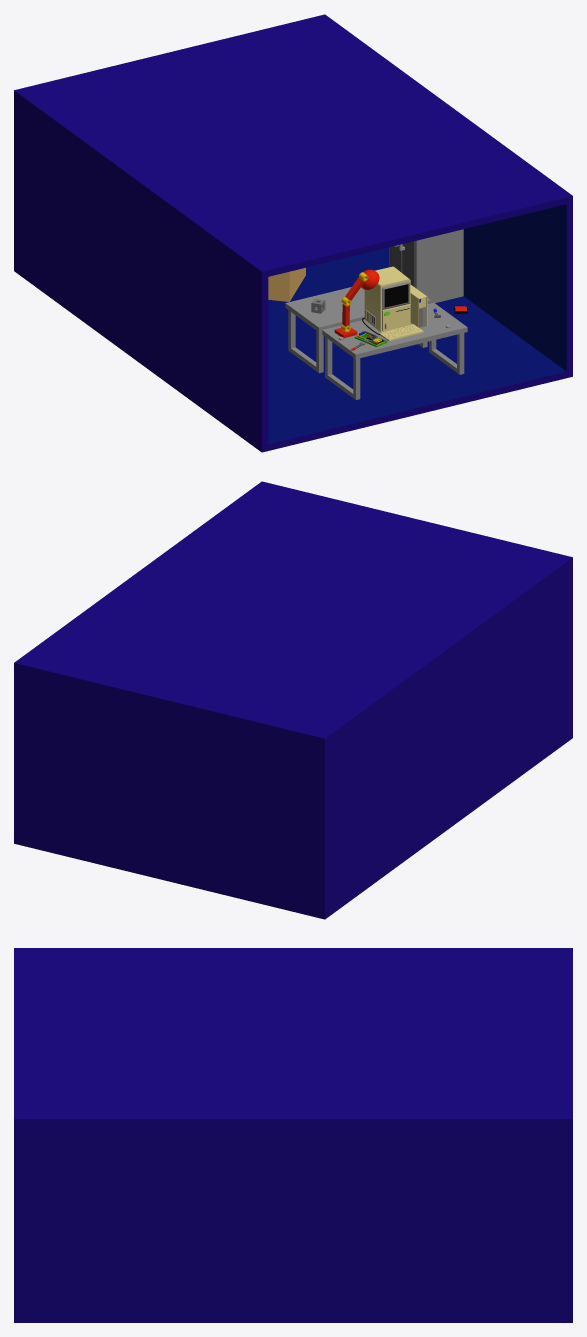
The model's file is menu1.glb.
The picture shows the model from 3 angles, top to bottom: view 1: azimuth 30°, elevation 25°; view 2: azimuth 150°, elevation 25°; view 3: azimuth 270°, elevation 25°; orthographic projection. The views are drawn at different scales.
Parts seen in each view (by area): view 1: Cube, Cube.059, Cube.032, Cube.005, Cube.054, Cube.008, Cube.053, Cube.034, Cube.003, Cube.056, Cube.033; view 2: Cube; view 3: Cube.
Boxes of the visible parts, x1,y1,x2,y2 form: Cube: (14, 14, 572, 452); Cube.059: (389, 229, 463, 303); Cube.032: (322, 303, 467, 358); Cube.005: (285, 287, 430, 332); Cube.054: (364, 266, 410, 332); Cube.008: (268, 267, 305, 301); Cube.053: (382, 281, 410, 331); Cube.034: (325, 337, 360, 399); Cube.003: (288, 310, 323, 373); Cube.056: (410, 285, 427, 327); Cube.033: (429, 333, 464, 374); Cube: (14, 481, 572, 919); Cube: (14, 948, 572, 1322).
Bounding box in the file's own units: 12.95 × 7.2 × 17.88.
